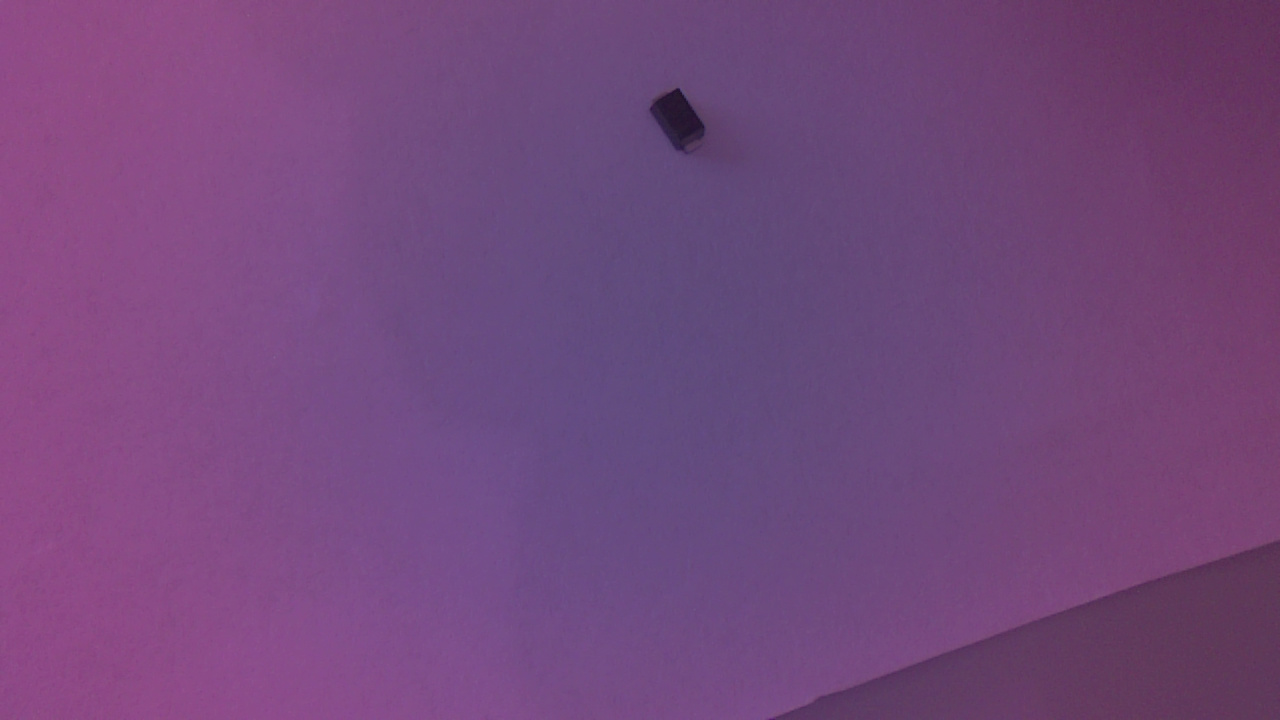Diode: (649, 87, 718, 166)
